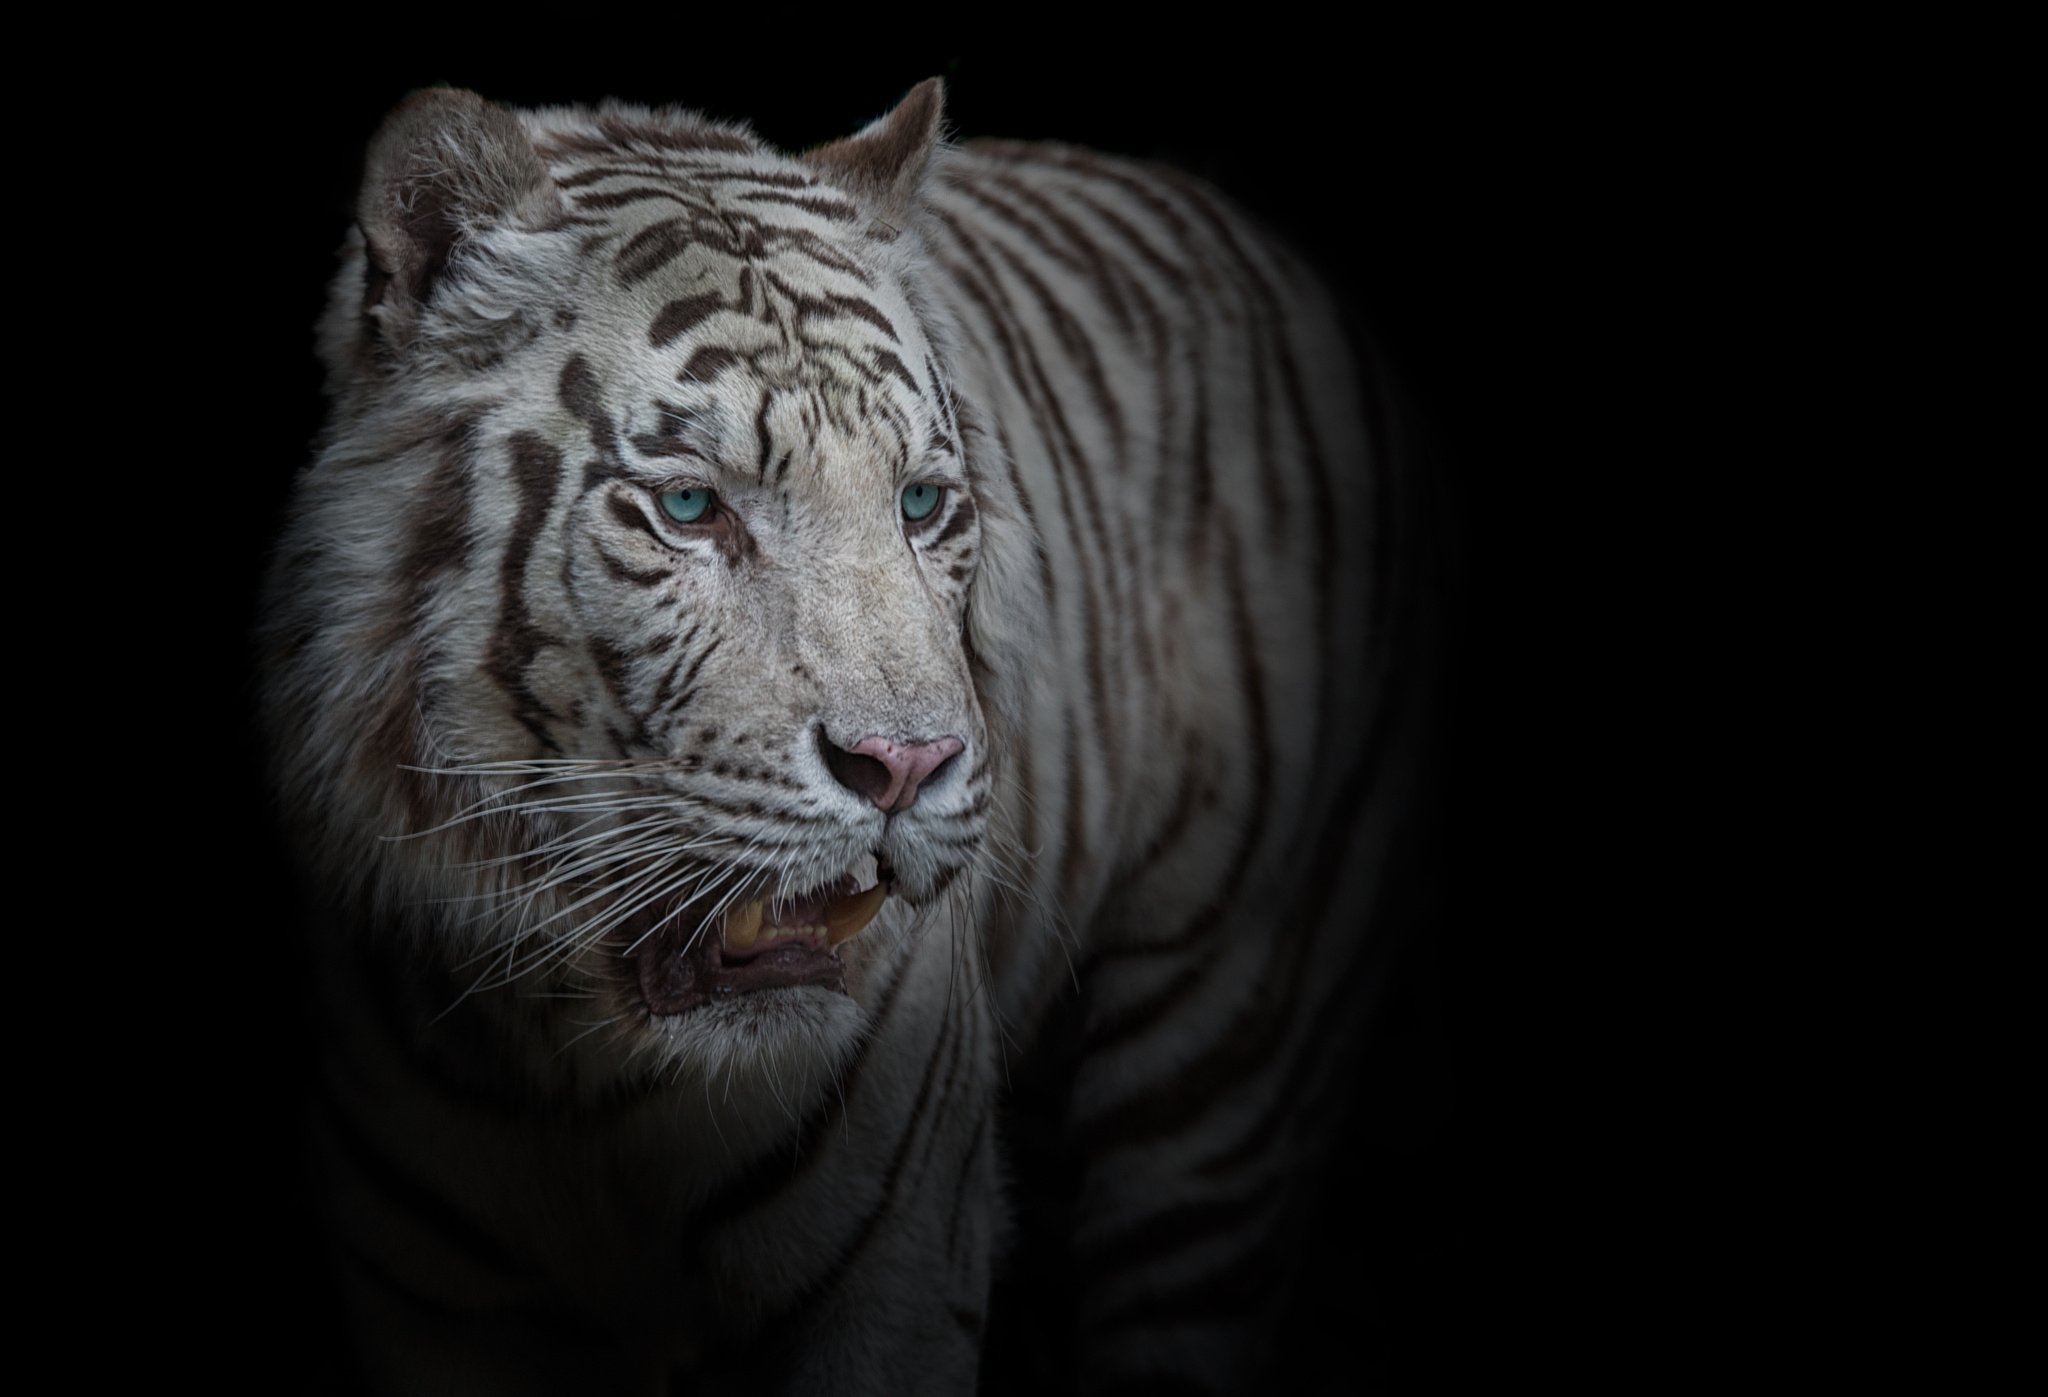tiger: (279, 62, 1385, 1338)
